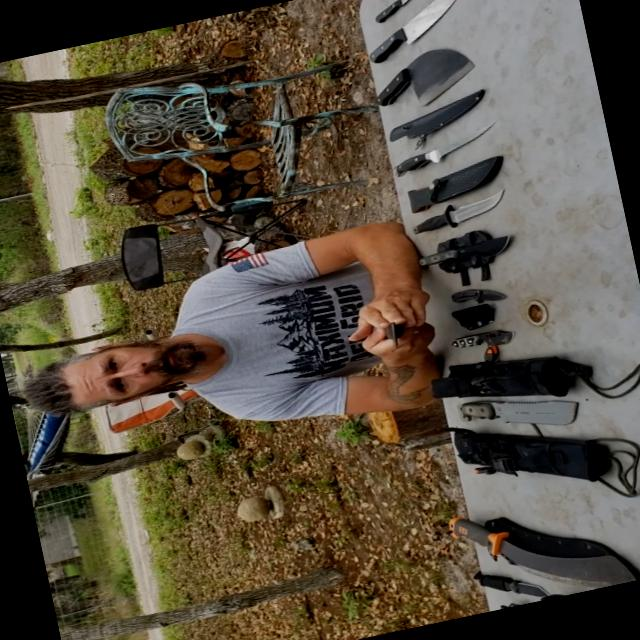knife: (430, 466, 639, 618), (369, 99, 511, 187), (451, 366, 592, 450), (357, 40, 482, 126), (345, 0, 482, 71), (384, 182, 524, 242), (402, 220, 526, 274), (460, 556, 550, 614), (434, 309, 530, 361), (364, 296, 426, 358), (437, 276, 517, 310), (362, 0, 429, 33)
